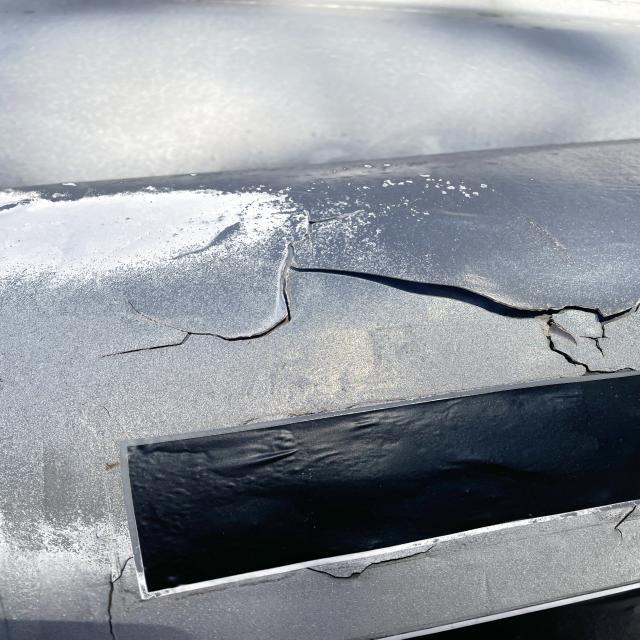crack: (295, 265, 616, 362), (98, 294, 293, 362), (245, 215, 311, 269)
